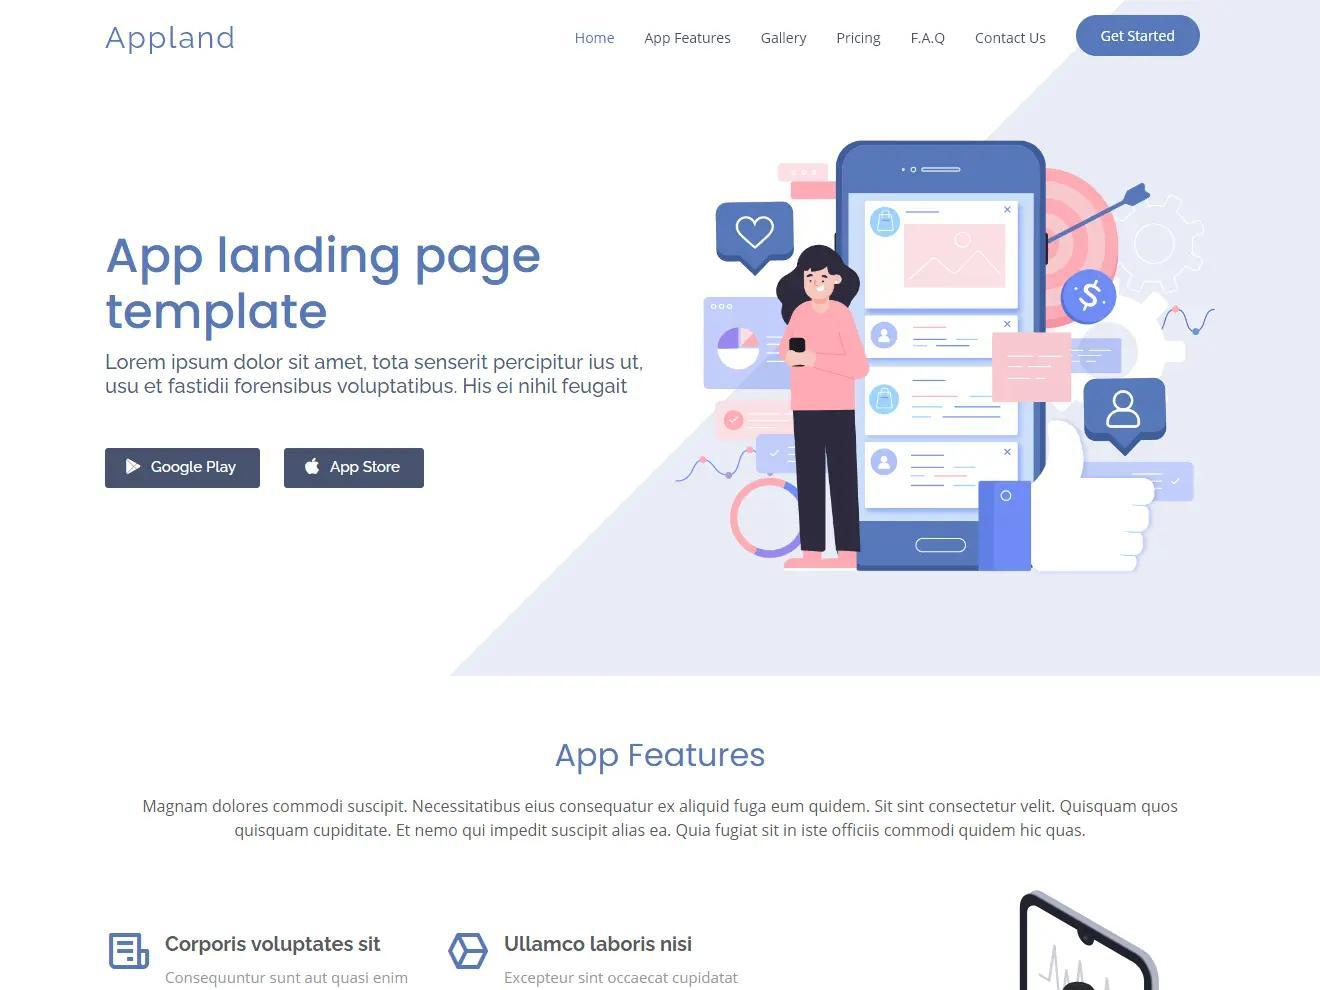button: (109, 446, 262, 490), (1079, 15, 1204, 56), (284, 450, 426, 487)
label: (643, 28, 737, 49), (967, 29, 1054, 51), (569, 26, 621, 48), (833, 28, 885, 50), (904, 27, 952, 49), (764, 27, 810, 49)
